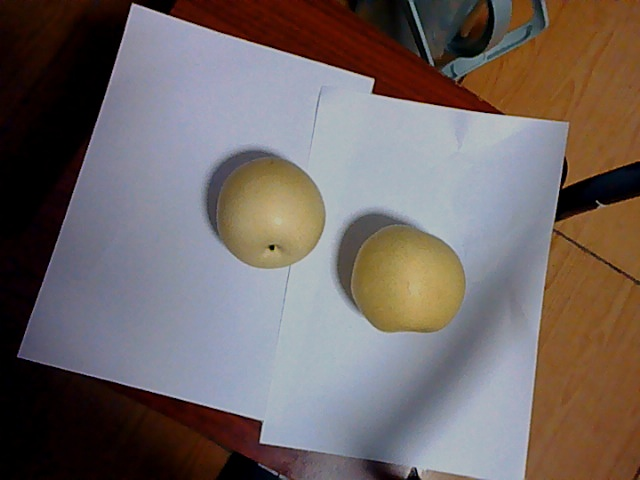pear: (350, 223, 467, 333), (215, 160, 322, 270)
